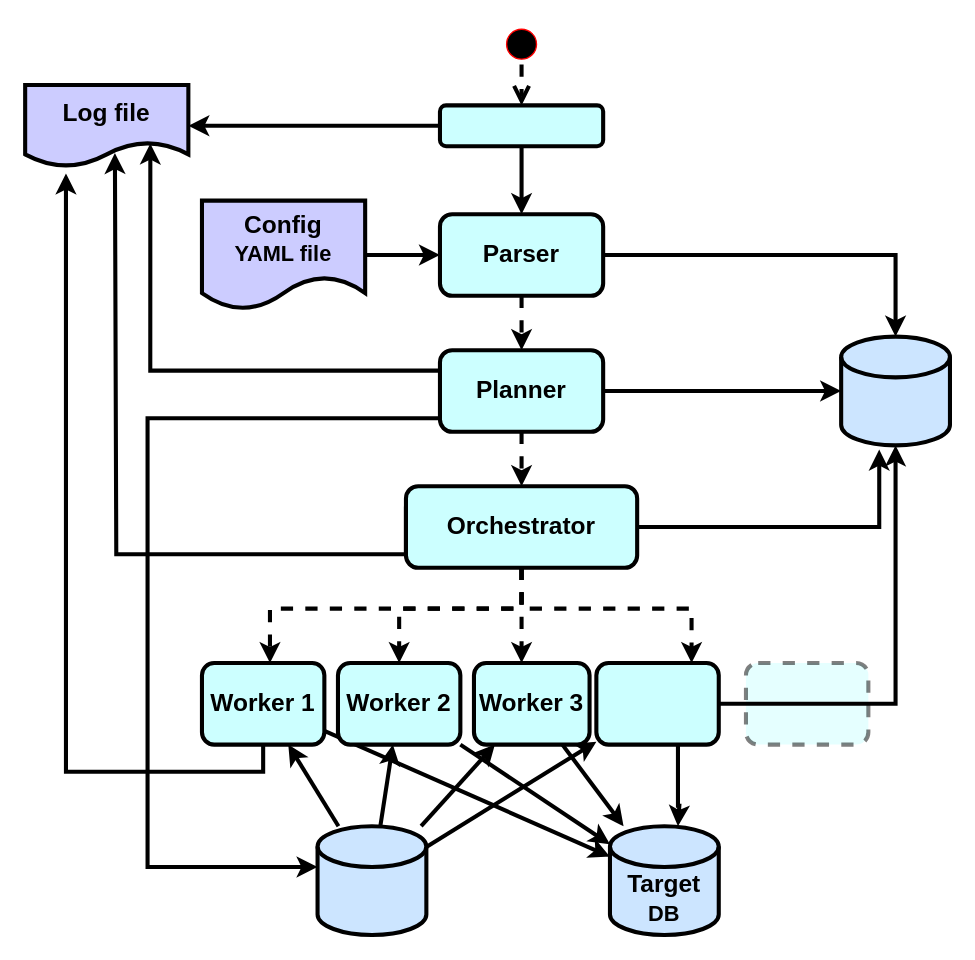
This 975x960 diagram has some shape labels left out. The shapes that lost their labels are listed below. From the top down, each one's box as (x1, y1, x2, y2) in pixels, then its label:
(437, 103, 605, 148): Logger
(838, 334, 951, 447): Migrator DB
(594, 660, 720, 746): Worker 4
(743, 660, 870, 746): Worker N
(315, 823, 428, 936): Source DB
